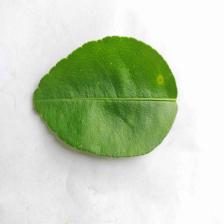greening: (43, 41, 179, 141)
